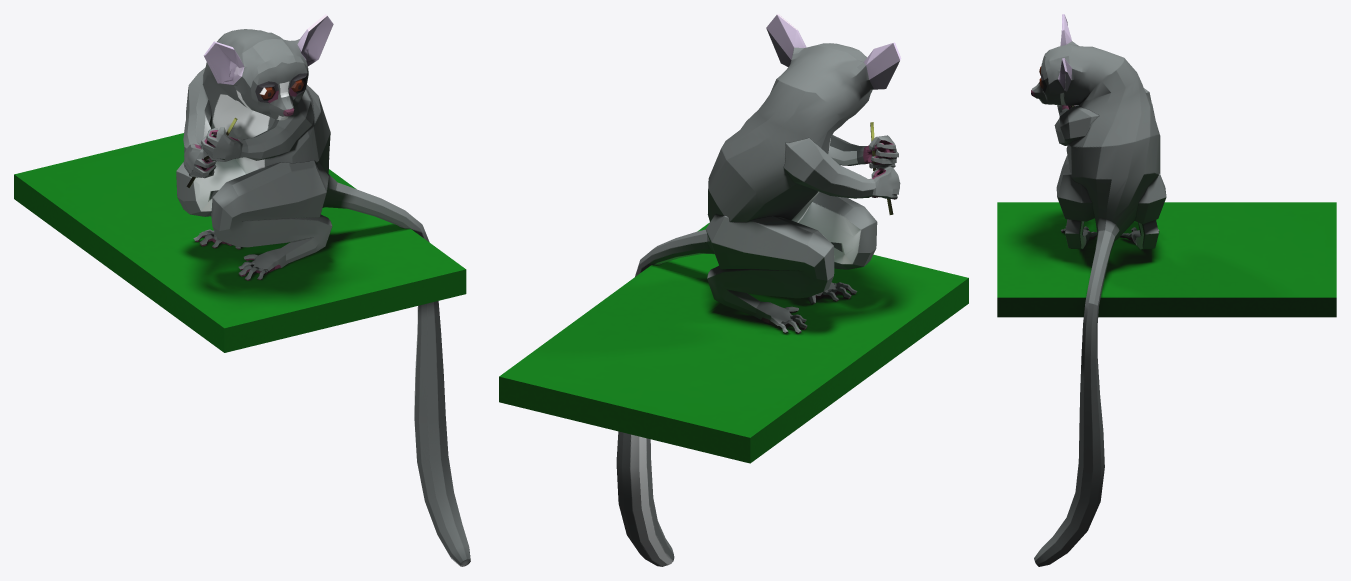
Rendered from galago.glb.
3 renders of one model, left to right at view 1: azimuth 30°, elevation 25°; view 2: azimuth 150°, elevation 25°; view 3: azimuth 270°, elevation 25°, orthographic. The views are drawn at different scales.
Bounding box in the file's own units: 0.1213 × 0.2373 × 0.1584.
1 material, 1 textured.
